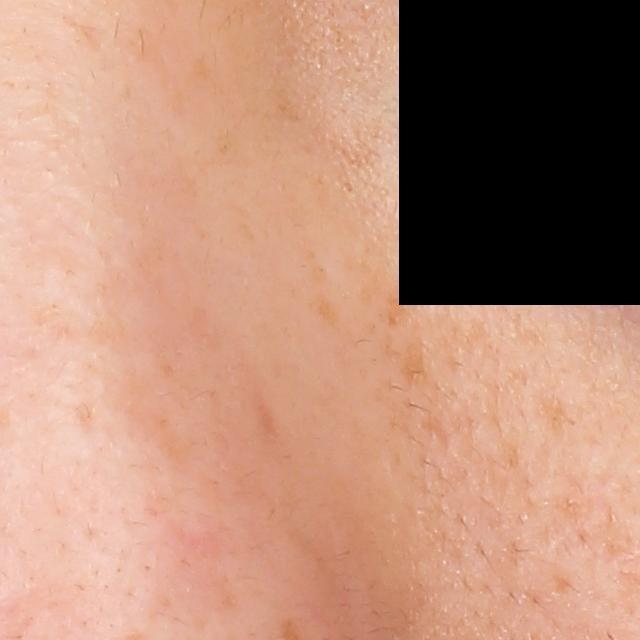melasma: (379, 321, 427, 393), (529, 385, 579, 443), (383, 281, 417, 331), (307, 289, 344, 332)
